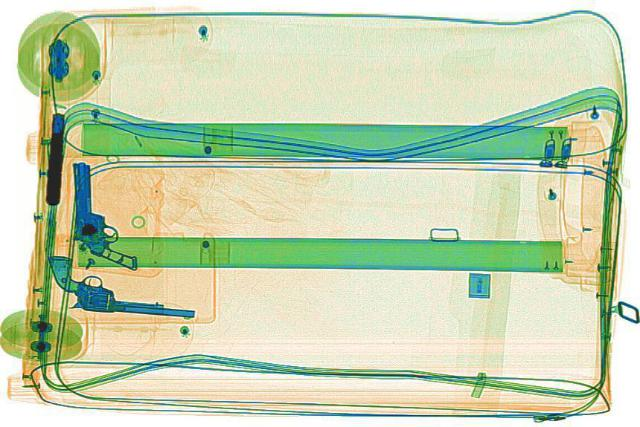Gun: (40, 254, 200, 314), (68, 161, 136, 270), (41, 113, 67, 205)
